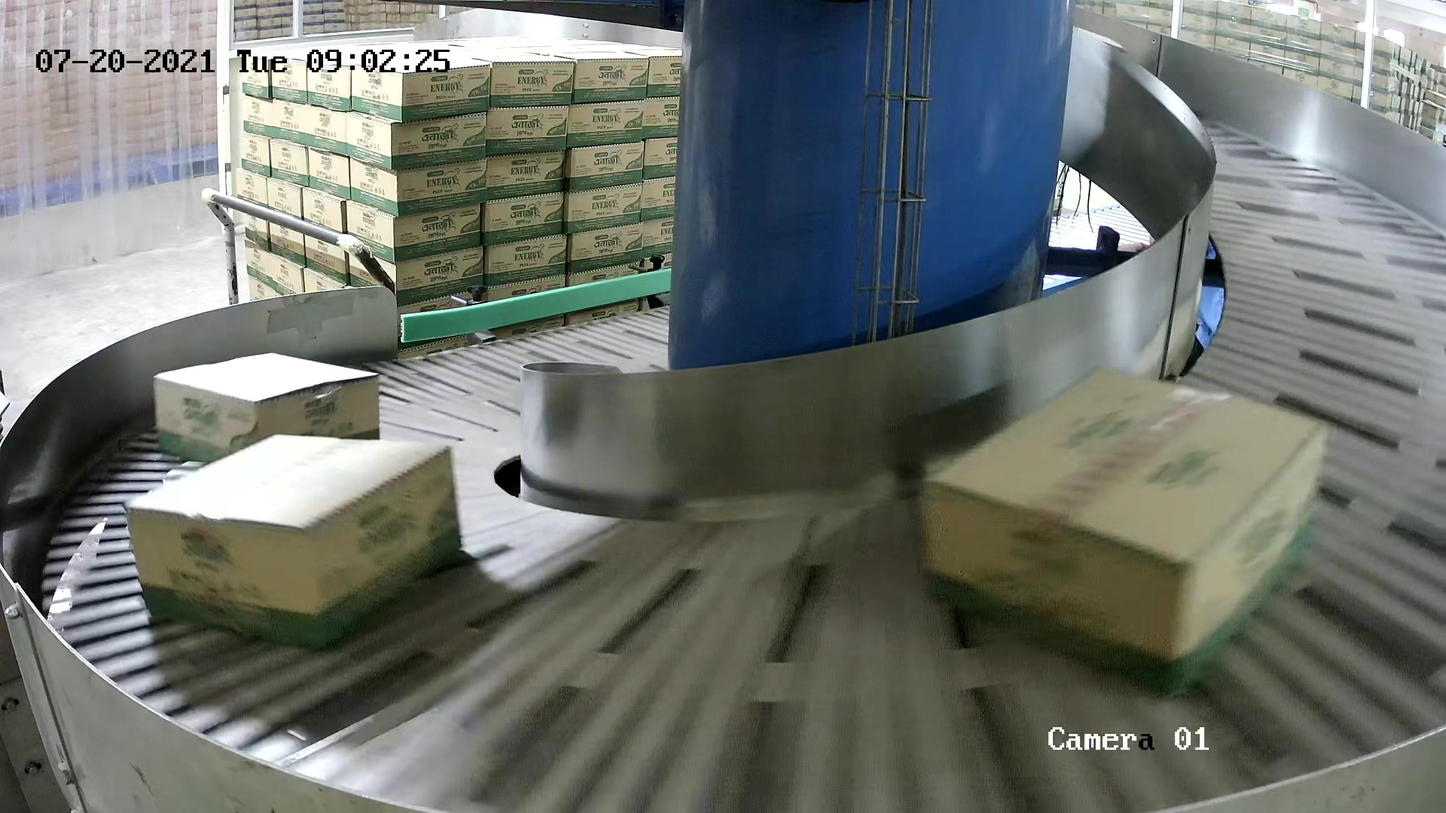Box: (915, 359, 1331, 698), (123, 431, 464, 652), (152, 350, 381, 467)
